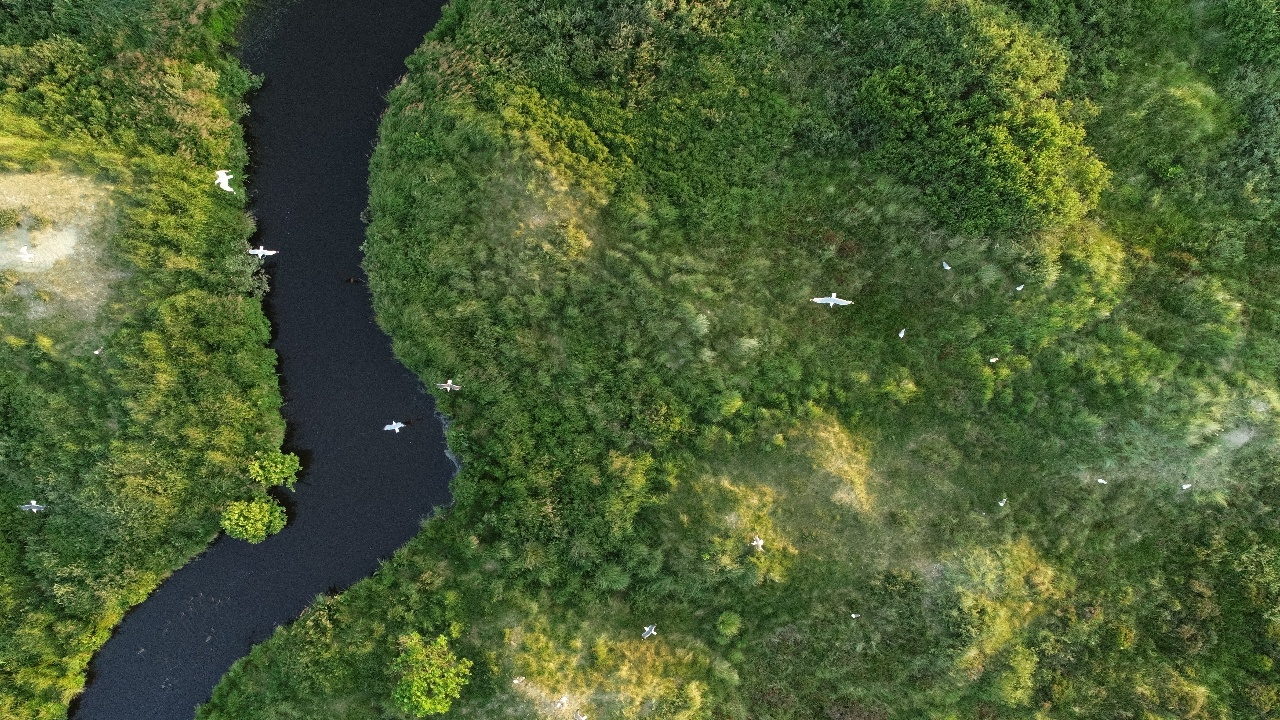Bird: (8, 482, 55, 526), (371, 402, 418, 446), (425, 362, 472, 406), (623, 606, 670, 650), (493, 651, 540, 695), (535, 676, 582, 720), (734, 522, 781, 566), (829, 593, 876, 637), (979, 481, 1026, 525), (1076, 459, 1123, 503), (1158, 464, 1205, 508), (971, 336, 1018, 380), (999, 267, 1046, 311), (924, 244, 971, 288), (877, 309, 924, 353), (809, 279, 856, 323), (240, 232, 287, 276), (209, 160, 256, 204), (78, 328, 125, 372), (1, 231, 46, 275)
